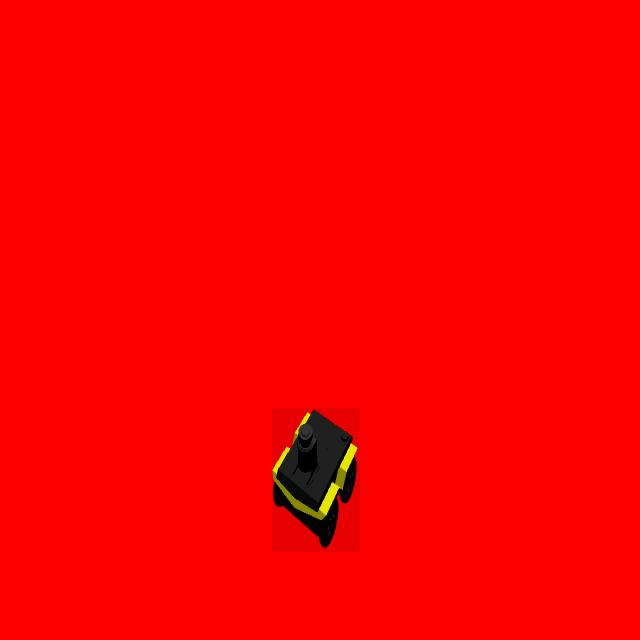jackal: (272, 408, 360, 552)
